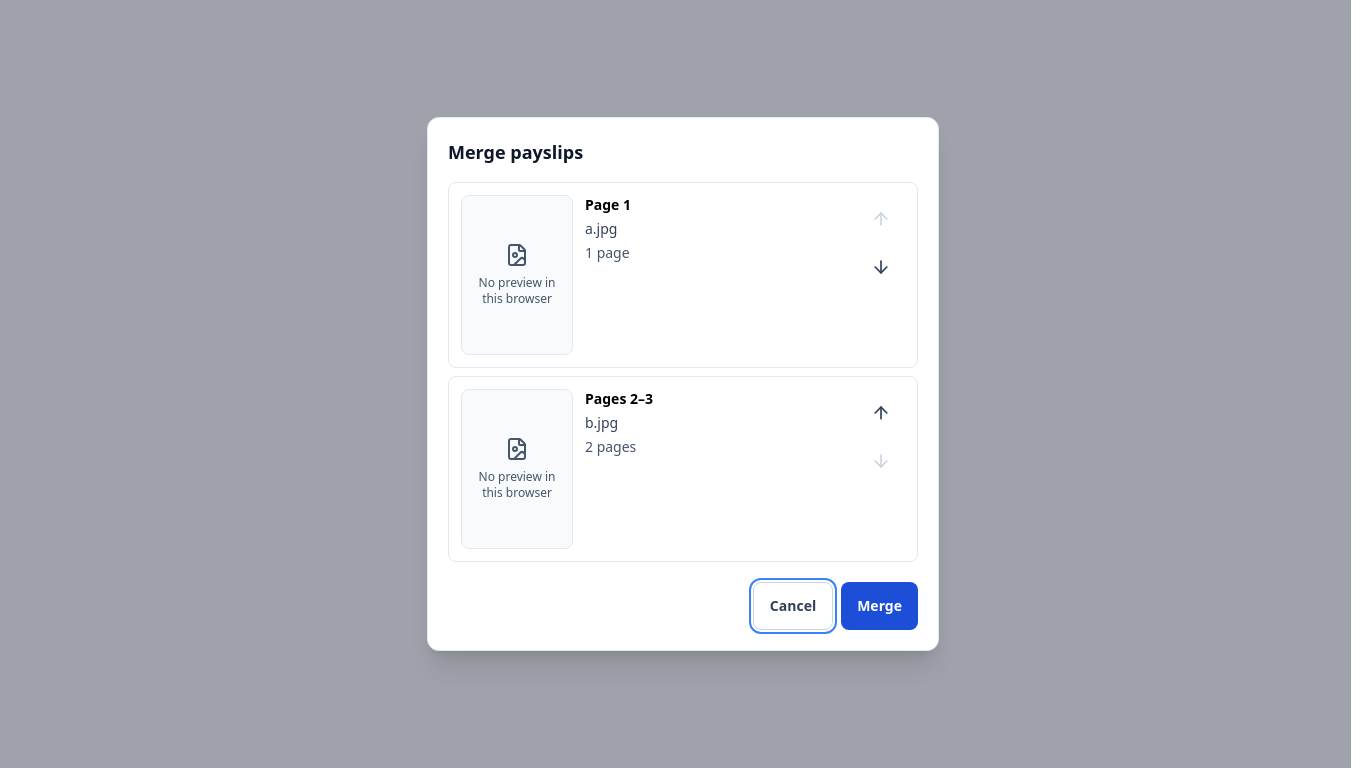
Test case: MergeDialog (plan 11 D11, Task 15b D6) › stays open and explains a failure: {}
Step 1. Click the button "Merge" → [880, 606], box [841,582,918,630]
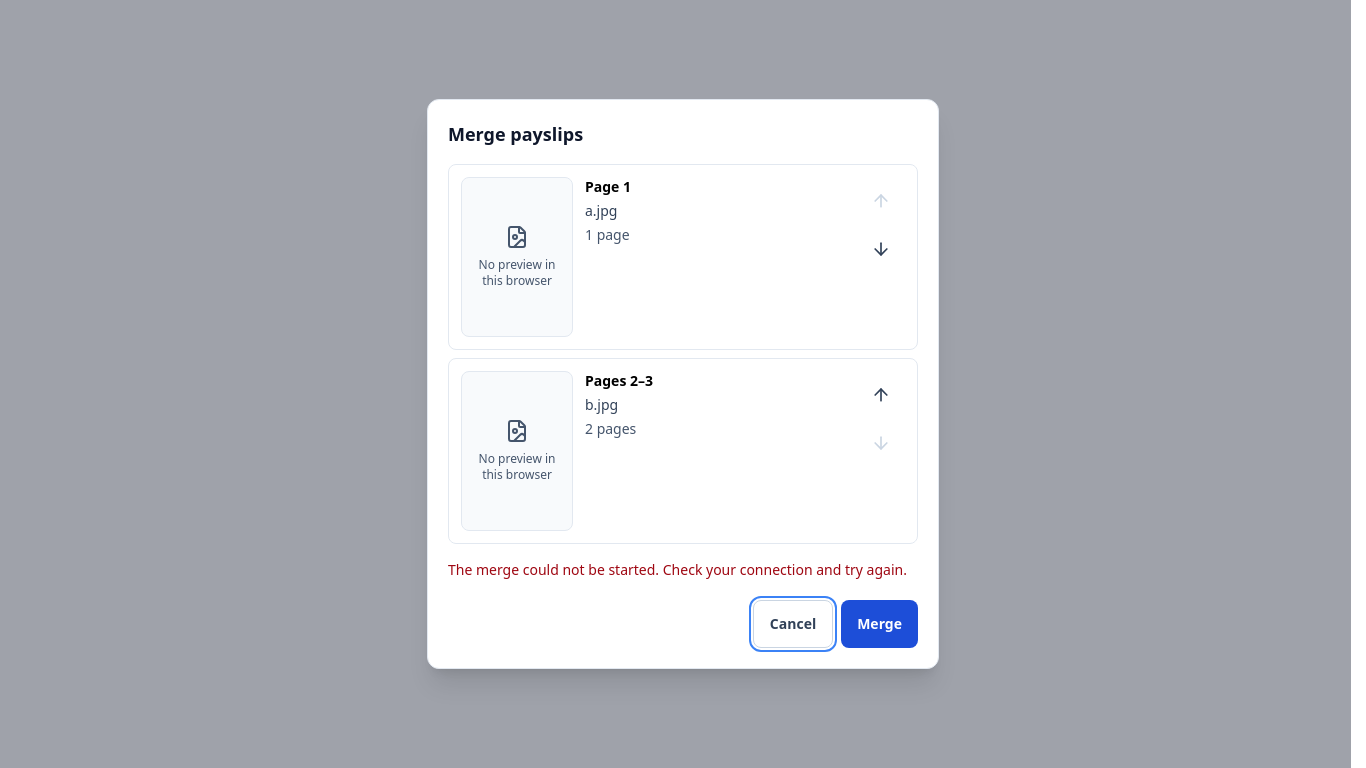
Check: the message reads "The merge could not be started. Check your connection and try again.", box [448,560,907,579]
